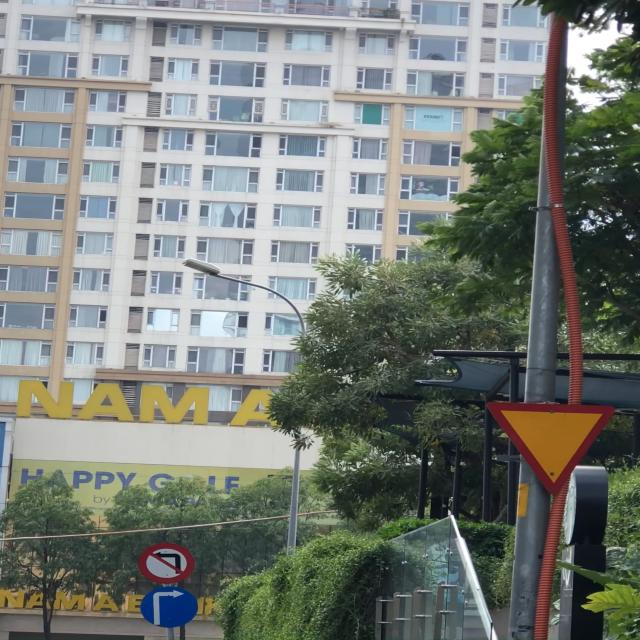Bien bao cam re trai: (136, 542, 198, 584)
Bien bao giao nhau voi duong uu tien: (480, 396, 612, 500)
Bien bao huong di phai theo: (137, 586, 201, 632)
